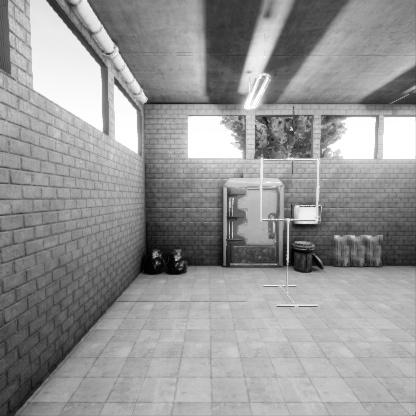gate: (260, 197, 323, 260)
